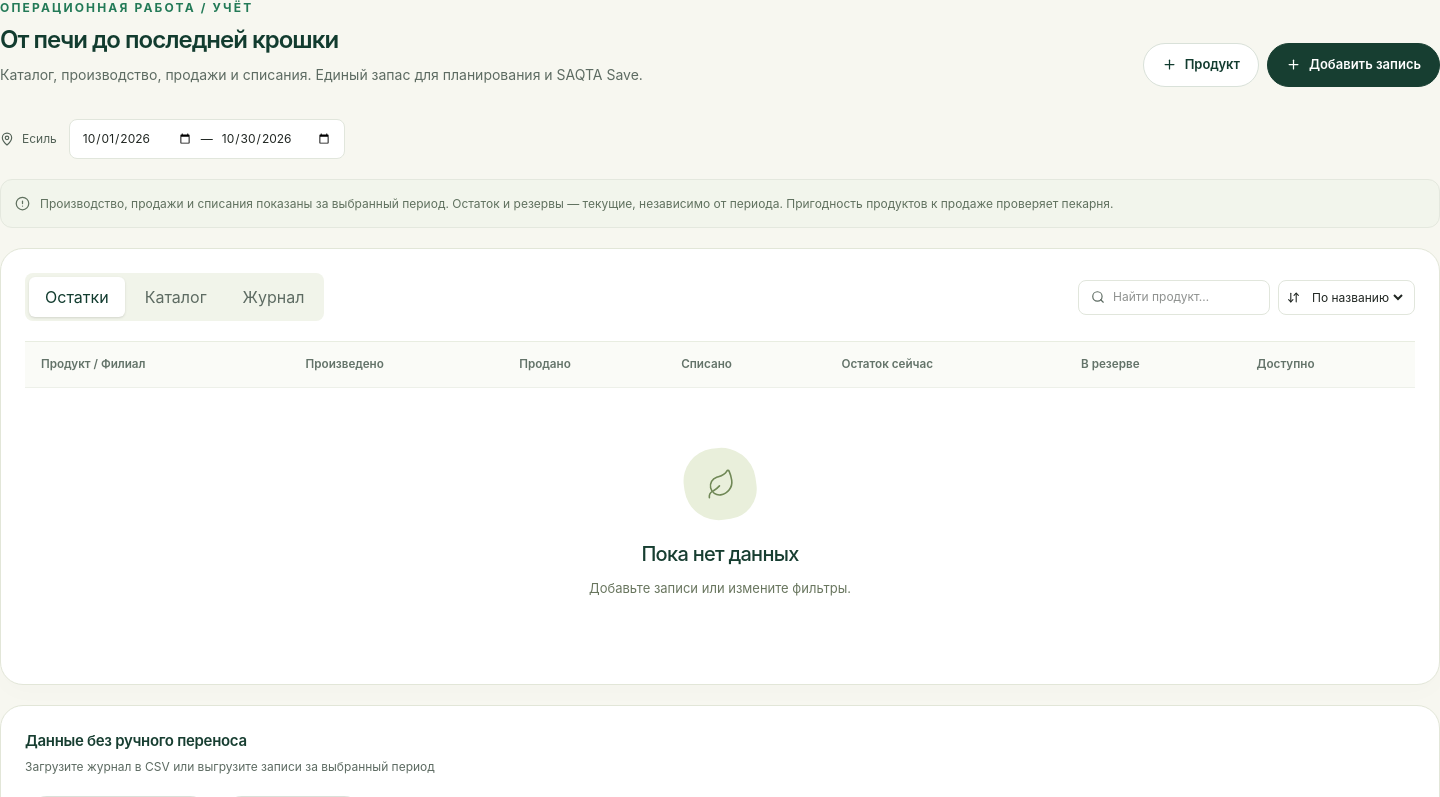
Test: inventory record forms use the API fields for the selected record kind › saves an unchanged waste record with disabled product and location selectors
Click the tab "Журнал".
click(274, 297)  # box [227, 277, 320, 317]
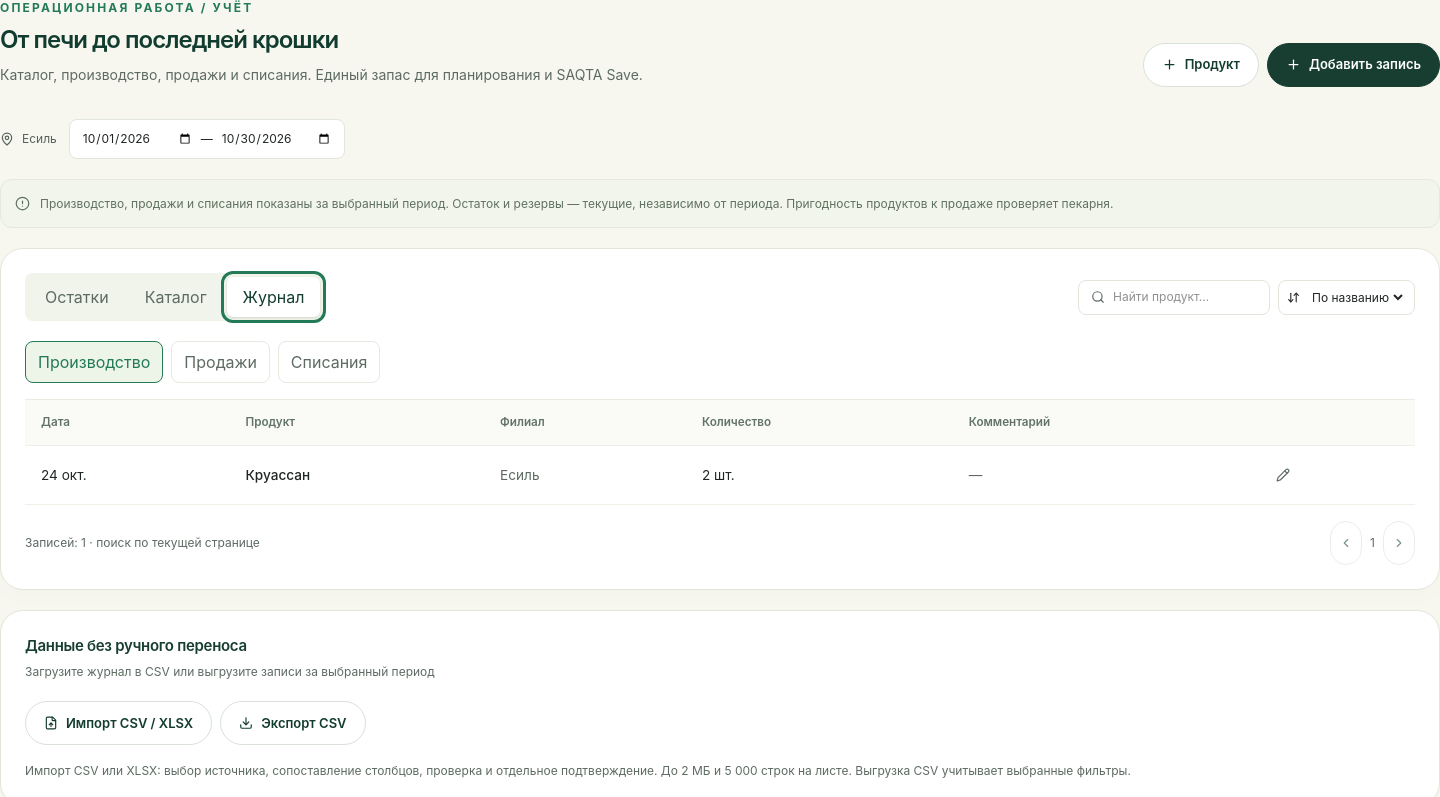
Click the button "Списания".
click(329, 362)  # box [278, 341, 380, 383]
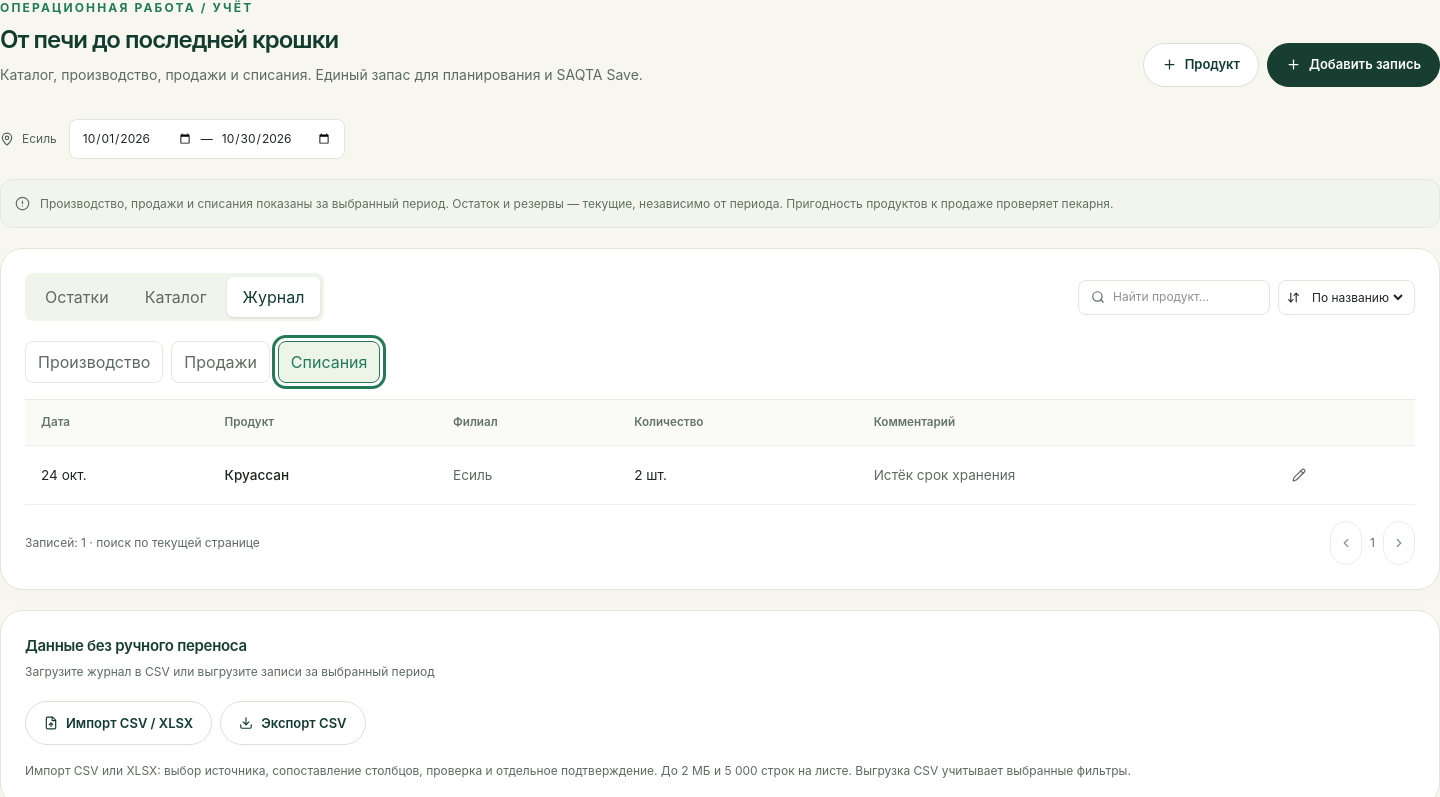
Click the button named "Редактировать запись 420".
click(1299, 475)  # box [1284, 460, 1314, 490]
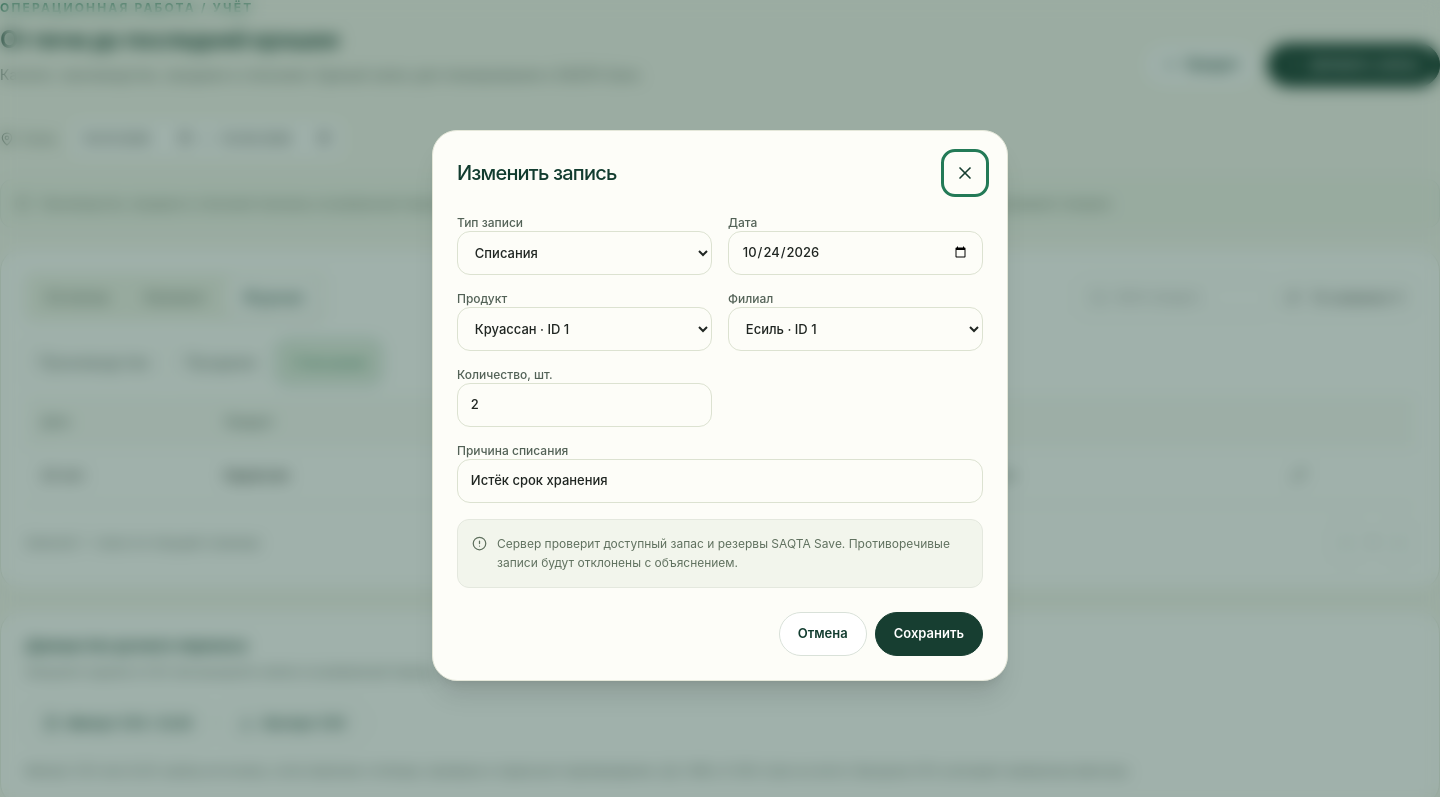
Expected: the dropdown labelled "Продукт" is disabled, [457, 306, 712, 350]
Expected: the dropdown labelled "Филиал" is disabled, [728, 306, 983, 350]
Click the button "Сохранить".
click(929, 634)  # box [875, 612, 983, 656]
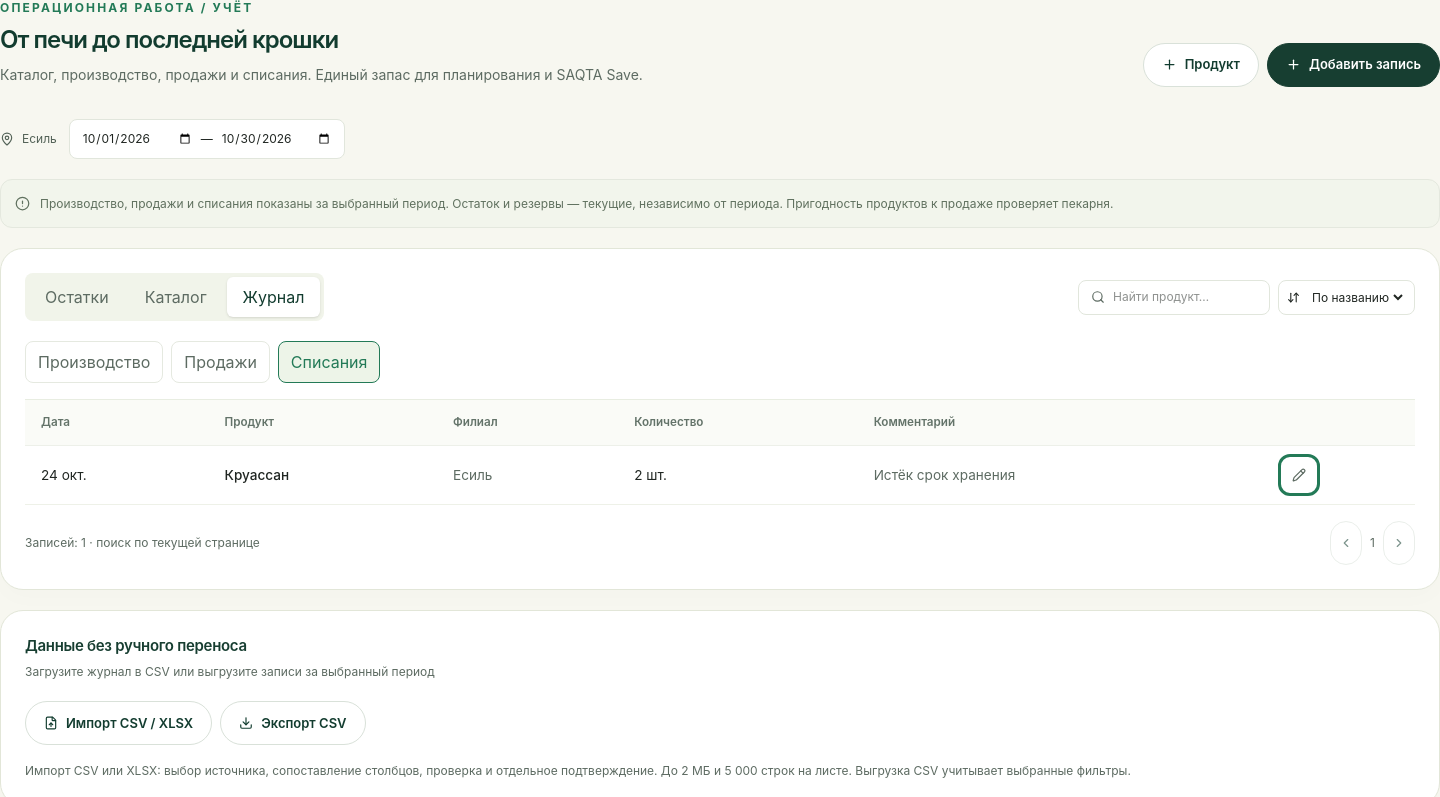
Expected: the dialog is gone
